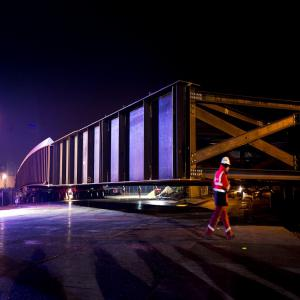white: (221, 156, 232, 175)
